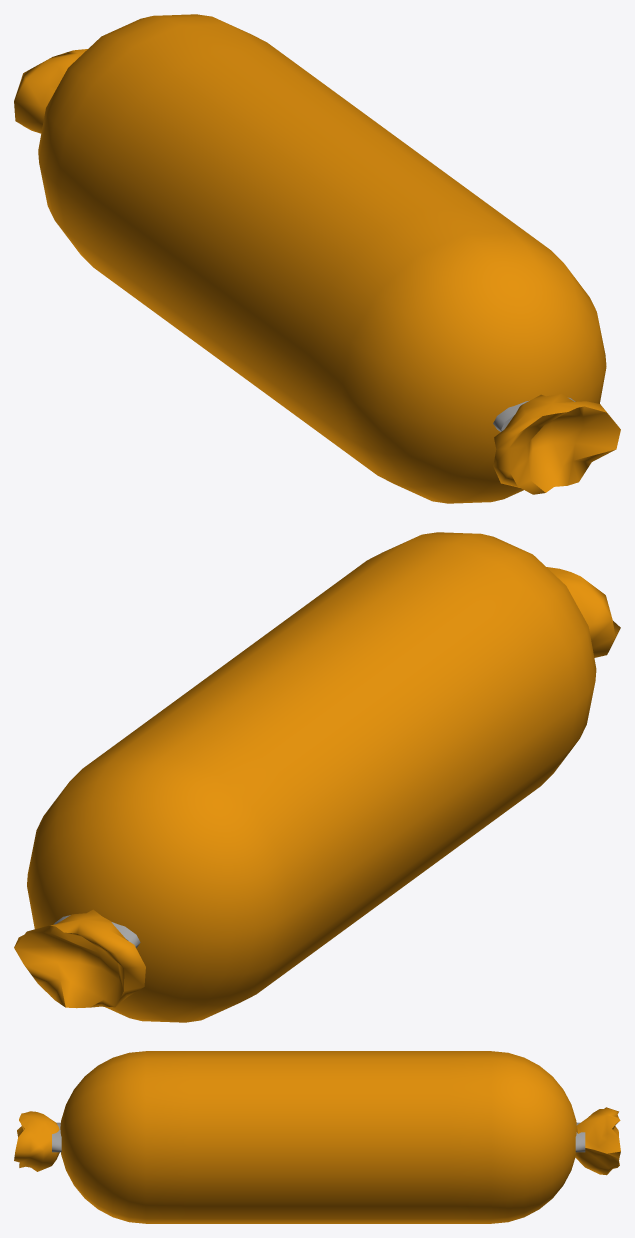
The model's file is Wurst.fbx.
The picture shows the model from 3 angles, top to bottom: view 1: azimuth 30°, elevation 25°; view 2: azimuth 150°, elevation 25°; view 3: azimuth 270°, elevation 25°; orthographic projection. The views are drawn at different scales.
Parts seen in each view (by area): view 1: Kapsel, Kugel, Kugel_1; view 2: Kapsel, Kugel_1, Kugel; view 3: Kapsel, Kugel_1, Kugel.
Part boxes in pixels (x1,y1,x2,y2): Kapsel: [38, 14, 606, 503]; Kugel: [493, 393, 620, 494]; Kugel_1: [14, 49, 87, 133]; Kapsel: [27, 532, 596, 1022]; Kugel_1: [14, 909, 145, 1008]; Kugel: [547, 567, 620, 657]; Kapsel: [60, 1051, 576, 1223]; Kugel_1: [575, 1107, 620, 1175]; Kugel: [14, 1111, 59, 1171].
Size of the model in its own units: 100 by 100 by 351.
